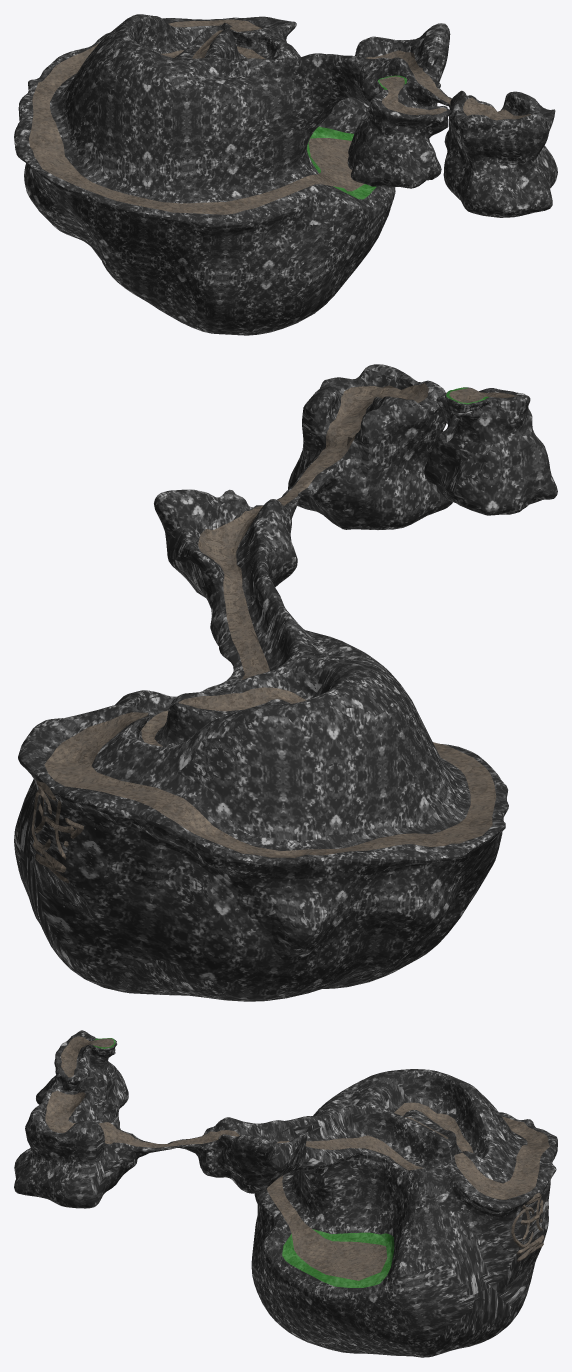
File: 2SkullMap.fbx
3 renders of one model, top to bottom at view 1: azimuth 30°, elevation 25°; view 2: azimuth 150°, elevation 25°; view 3: azimuth 270°, elevation 25°, orthographic. The views are drawn at different scales.
Parts seen in each view (by area): view 1: Cube.001; view 2: Cube.001; view 3: Cube.001.
Boxes of the visible parts, <box> form: Cube.001: <box>14,14,557,335</box>; Cube.001: <box>14,364,557,1001</box>; Cube.001: <box>14,1030,557,1357</box>.
Size of the model in its own units: 82761 by 78094 by 127442.
